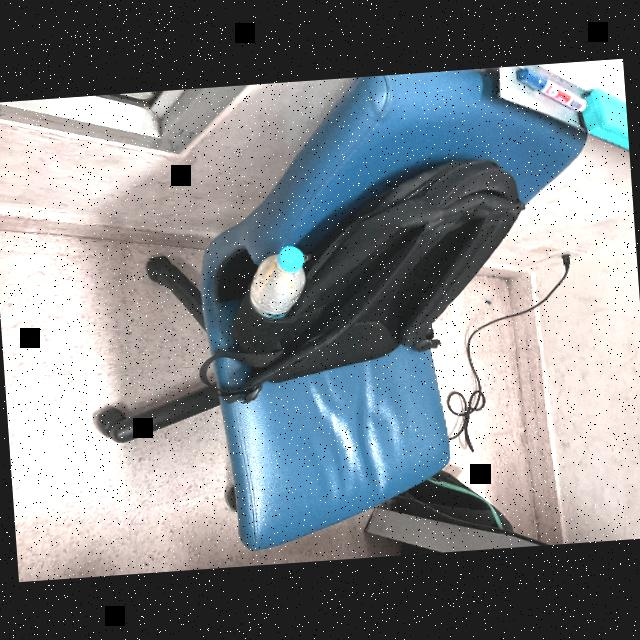plastic_bottle: (240, 243, 312, 319)
plastic_bottle_cap: (276, 244, 305, 272)
straw: (250, 256, 292, 294)
